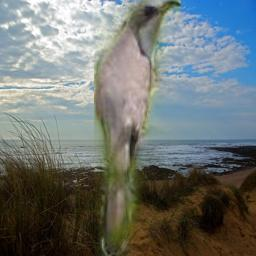Cuckoo: (94, 0, 181, 256)
Swallow: (119, 94, 150, 136)
